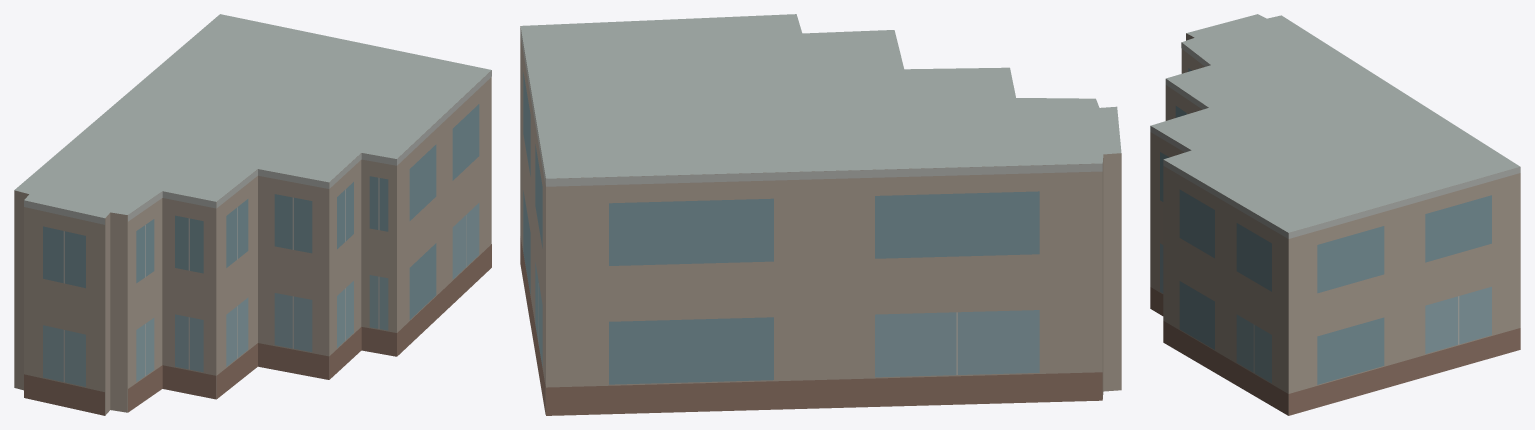
The model's file is survey-upis-32533095.glb.
3 views of the same model, side by side, from view 1: azimuth 30°, elevation 25°; view 2: azimuth 150°, elevation 25°; view 3: azimuth 270°, elevation 25° (orthographic). The views are drawn at different scales.
Parts seen in each view (by area): view 1: survey-upis-32533095.tmp; view 2: survey-upis-32533095.tmp; view 3: survey-upis-32533095.tmp.
Boxes of the visible parts, x1,y1,x2,y2 form: survey-upis-32533095.tmp: [14, 14, 491, 415]; survey-upis-32533095.tmp: [520, 14, 1121, 415]; survey-upis-32533095.tmp: [1150, 14, 1520, 415].
Size of the model in its own units: 18.48 by 7.2 by 13.21.
